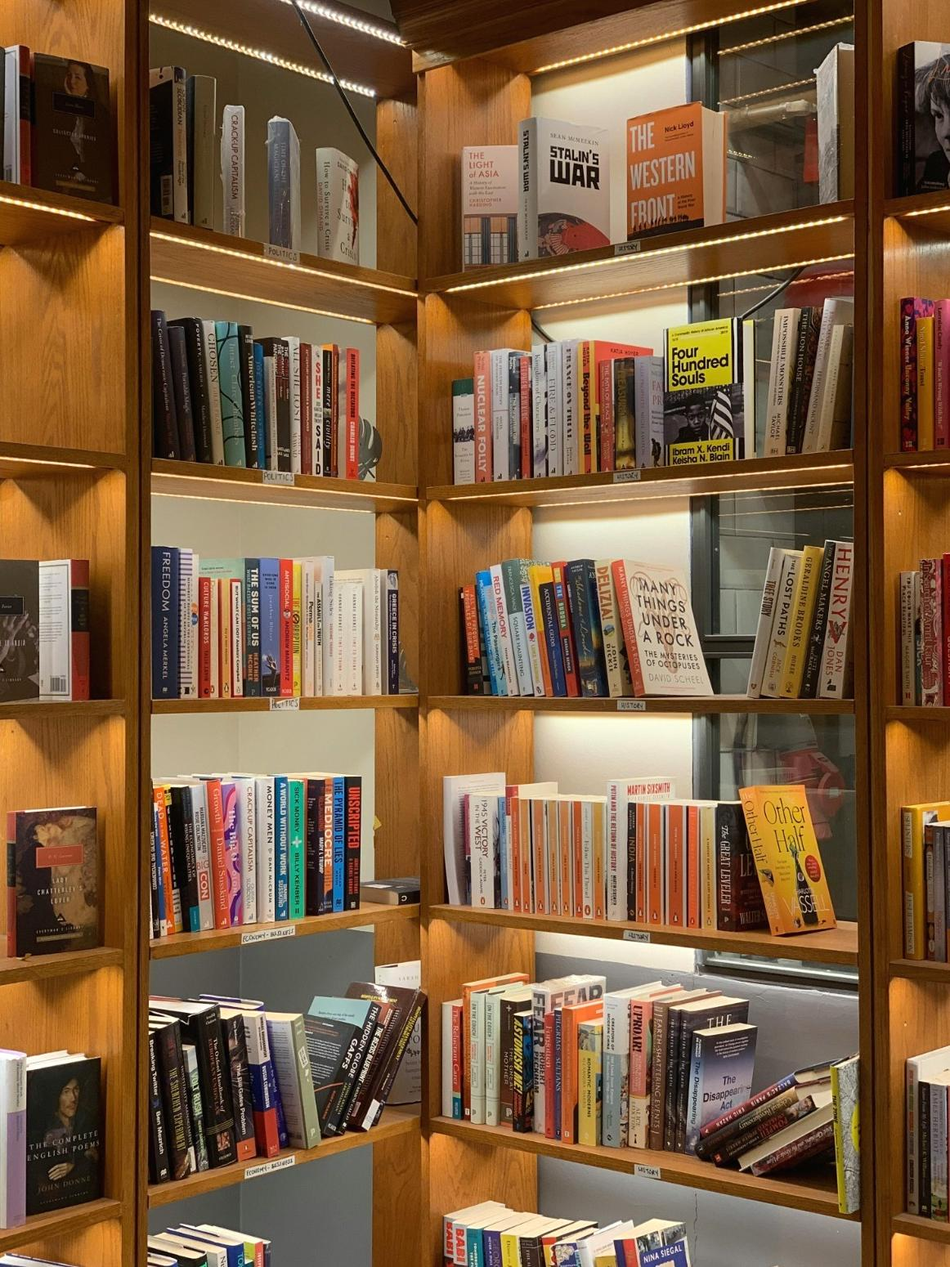book: (746, 546, 794, 702), (599, 981, 640, 1152), (762, 307, 799, 457), (500, 559, 536, 697), (331, 570, 370, 696), (527, 564, 562, 699), (231, 776, 259, 925), (468, 793, 501, 919), (203, 778, 229, 930), (189, 780, 214, 932), (199, 319, 224, 465), (577, 1009, 601, 1148), (254, 778, 275, 923), (177, 550, 197, 694), (314, 557, 334, 694), (561, 341, 581, 476), (490, 348, 509, 484), (473, 350, 492, 485), (451, 381, 475, 486), (468, 989, 486, 1126), (283, 338, 301, 474), (298, 560, 316, 696), (545, 342, 561, 477), (218, 578, 231, 698)
